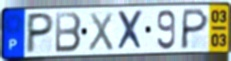9: (156, 9, 177, 50)
B: (54, 11, 83, 54)
P: (24, 11, 56, 56), (179, 7, 210, 51)
X: (115, 9, 145, 52), (87, 11, 115, 53)
